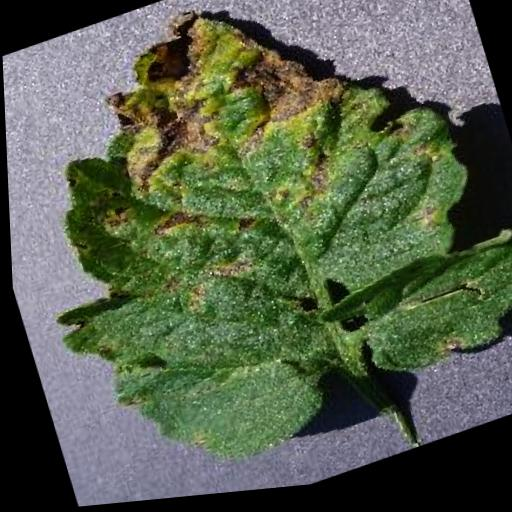Septoria: (0, 0, 512, 507)
